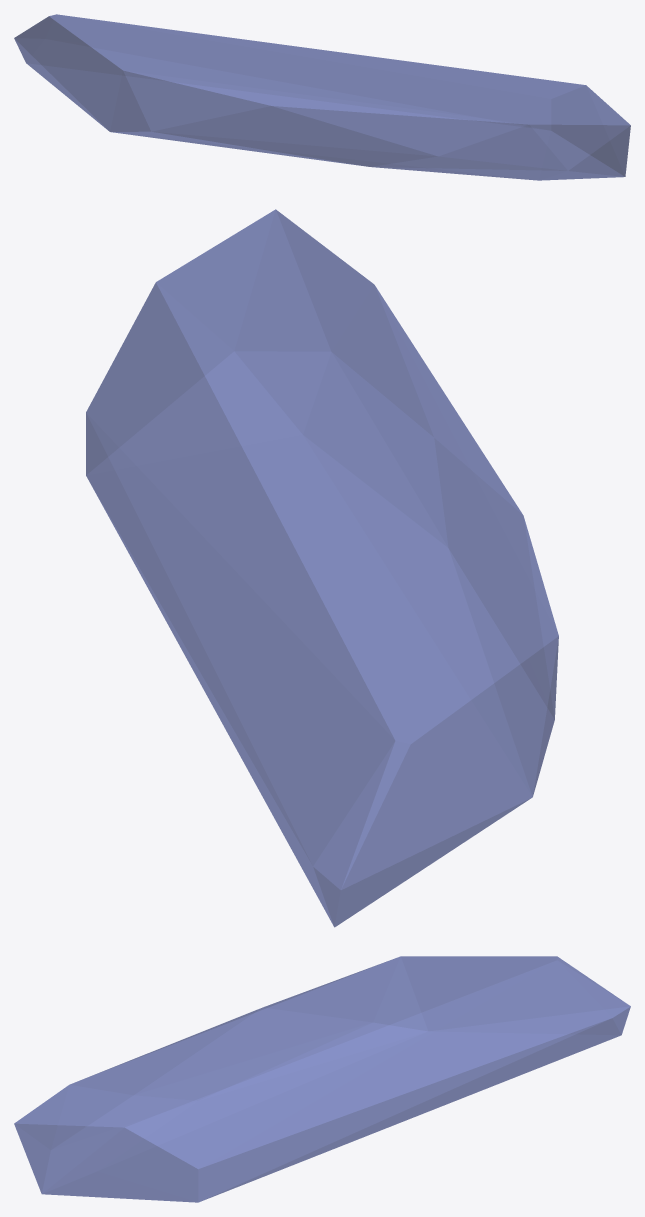
3 renders of one model, top to bottom at view 1: azimuth 30°, elevation 25°; view 2: azimuth 150°, elevation 25°; view 3: azimuth 270°, elevation 25°, orthographic. The views are drawn at different scales.
Parts seen in each view (by area): view 1: Shape_IndexedFaceSet.025_Shape_IndexedFaceSet.9036; view 2: Shape_IndexedFaceSet.025_Shape_IndexedFaceSet.9036; view 3: Shape_IndexedFaceSet.025_Shape_IndexedFaceSet.9036.
Boxes of the visible parts, box(x1,y1,x2,y2) form: Shape_IndexedFaceSet.025_Shape_IndexedFaceSet.9036: box(14, 14, 630, 180); Shape_IndexedFaceSet.025_Shape_IndexedFaceSet.9036: box(86, 209, 558, 927); Shape_IndexedFaceSet.025_Shape_IndexedFaceSet.9036: box(14, 956, 630, 1202).
Bounding box in the file's own units: 0.1024 × 0.0209 × 0.1559.
